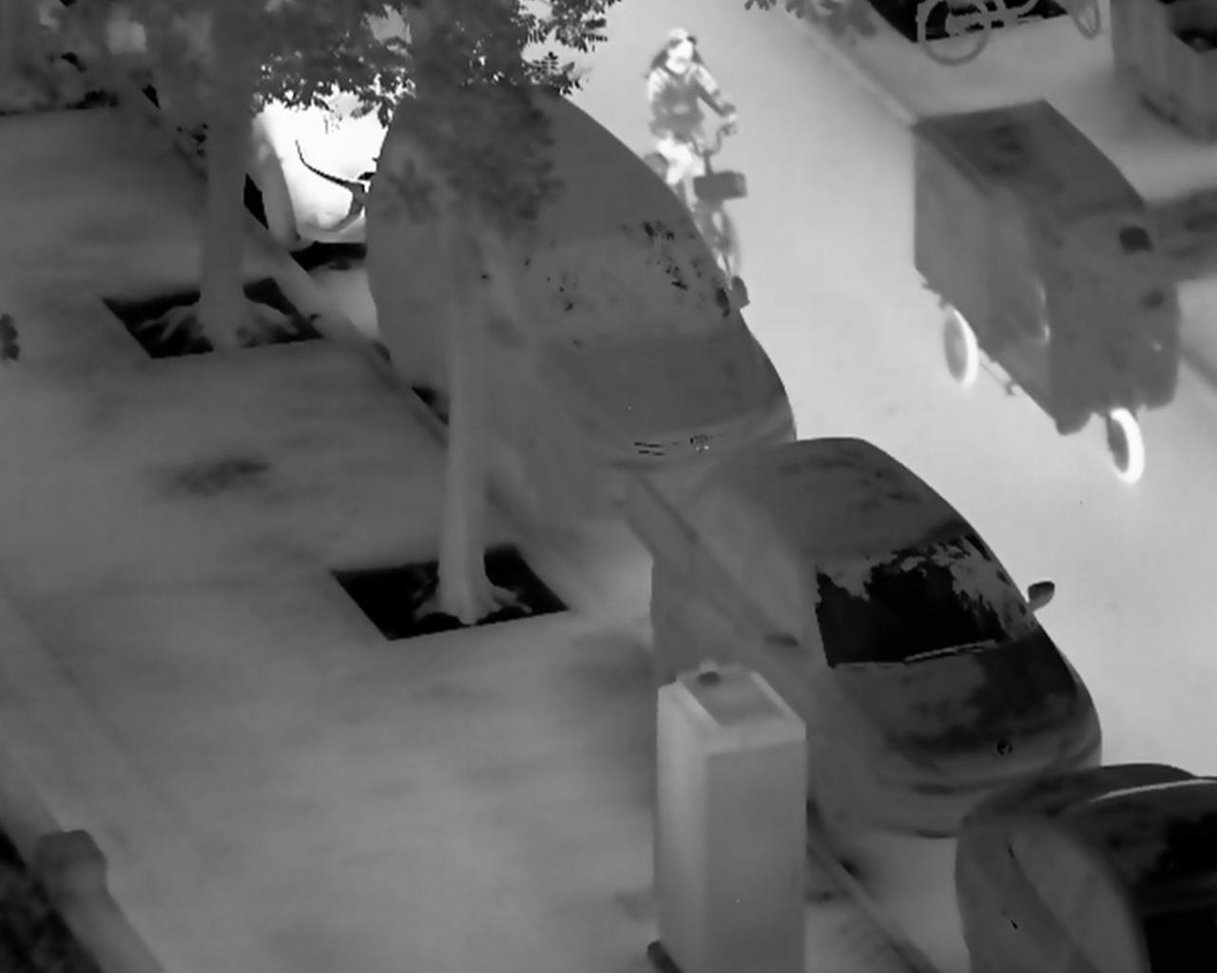person: (645, 24, 743, 197)
